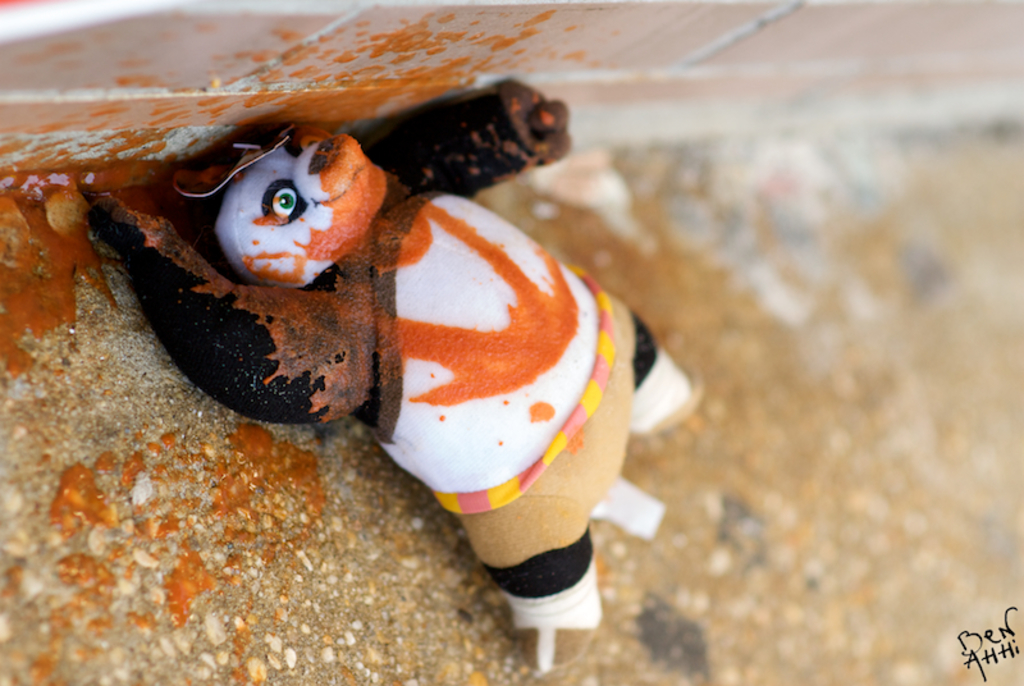Animal: (72, 80, 705, 676)
